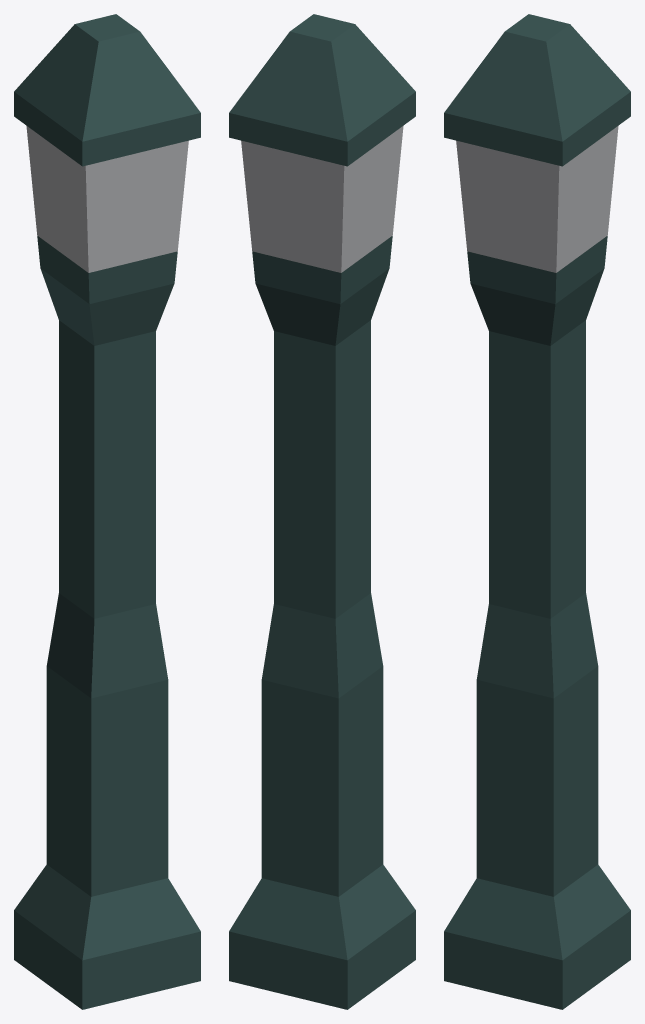
The model's file is Lightpost_01.obj.
The picture shows the model from 3 angles, left to right: view 1: azimuth 30°, elevation 25°; view 2: azimuth 150°, elevation 25°; view 3: azimuth 330°, elevation 25°; orthographic projection.
Parts seen in each view (by area): view 1: Mesh1_Lightpost_Model; view 2: Mesh1_Lightpost_Model; view 3: Mesh1_Lightpost_Model.
Part boxes in pixels (box(x1,y1,x2,y2)): Mesh1_Lightpost_Model: box(14, 14, 200, 1009); Mesh1_Lightpost_Model: box(229, 14, 415, 1009); Mesh1_Lightpost_Model: box(444, 14, 630, 1009).
Bounding box in the file's own units: 0.5 × 3.8 × 0.5.
